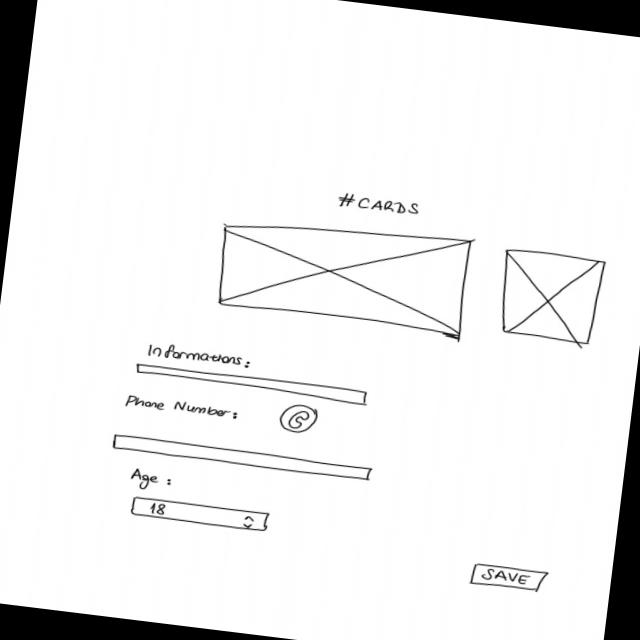button: (466, 562, 550, 594)
icon-button: (278, 400, 320, 436)
image: (214, 209, 474, 336), (494, 246, 606, 346)
input: (110, 432, 374, 482), (133, 361, 372, 407)
label: (123, 392, 240, 422), (145, 340, 255, 370), (336, 190, 422, 219), (127, 466, 174, 492)
number-input: (128, 494, 272, 534)
